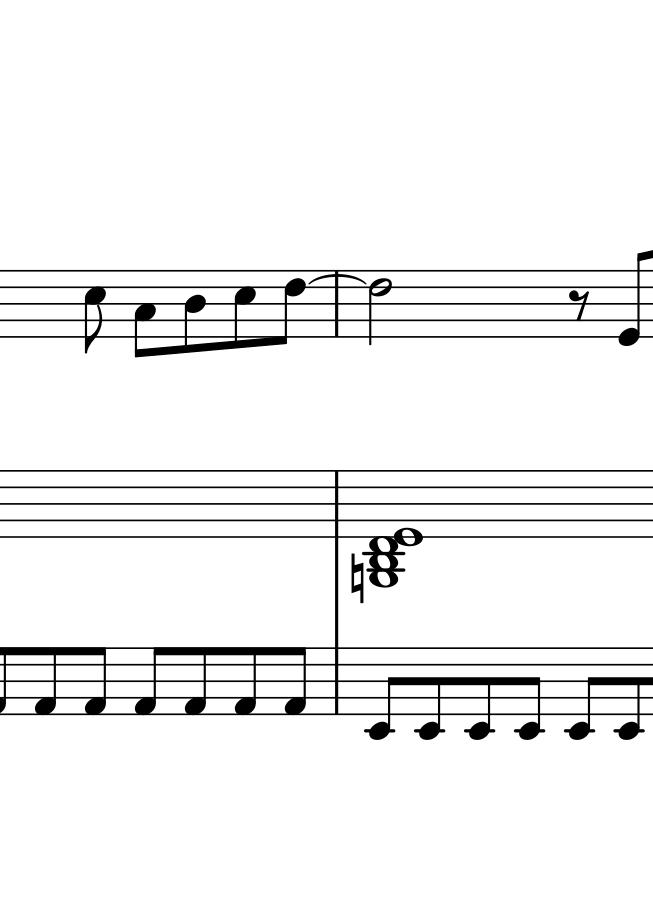1_4th: (364, 468, 427, 589)
2_6: (367, 269, 391, 346)
8_-2: (564, 646, 600, 741), (365, 645, 400, 741), (613, 646, 643, 741), (465, 645, 494, 741), (415, 646, 444, 741), (516, 645, 545, 740)
8_0: (616, 249, 647, 349)
8_1: (132, 645, 164, 718), (231, 645, 259, 718), (282, 646, 309, 720), (31, 645, 58, 718), (182, 645, 209, 718), (82, 646, 108, 719)
8_3: (132, 269, 157, 360)
8_4: (181, 268, 207, 356)
8_5: (81, 268, 107, 355), (232, 268, 256, 351)
8_6: (275, 268, 308, 347)
Natural: (350, 551, 366, 605)
Rests8: (568, 287, 592, 322)
Single_barline: (328, 471, 346, 537), (328, 649, 346, 714), (330, 274, 344, 337)
Slur: (309, 274, 367, 286)
